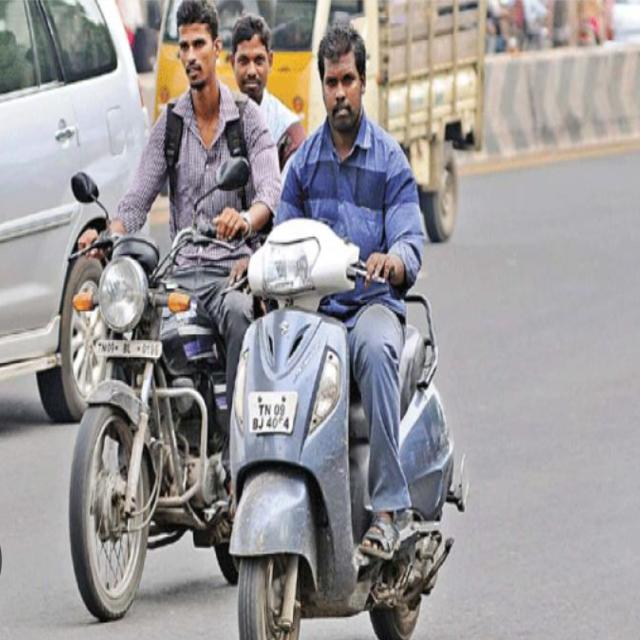Without Helmet: (310, 13, 372, 136), (227, 2, 282, 122), (172, 2, 226, 93)
